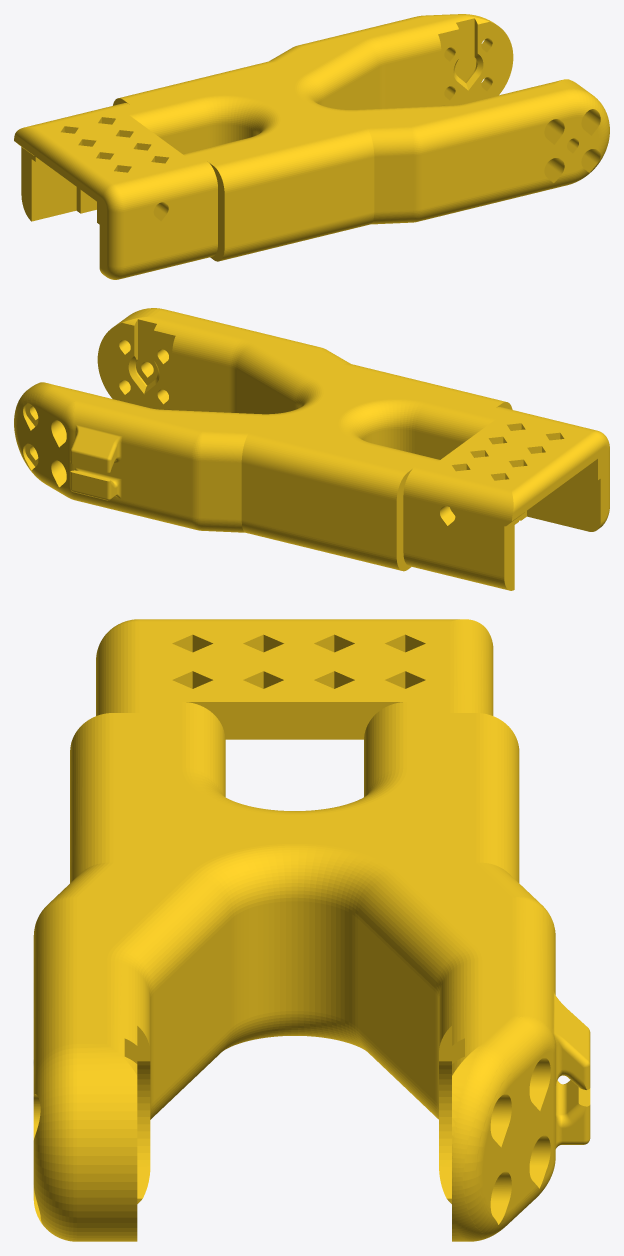
The model's file is lower_arm_visuals_under_arm_so101_v1_mesh.obj.
3 views of the same model, one above another, from view 1: azimuth 30°, elevation 25°; view 2: azimuth 150°, elevation 25°; view 3: azimuth 270°, elevation 25° (orthographic). The views are drawn at different scales.
Bounding box in the file's own units: 0.1307 × 0.024 × 0.0644.
